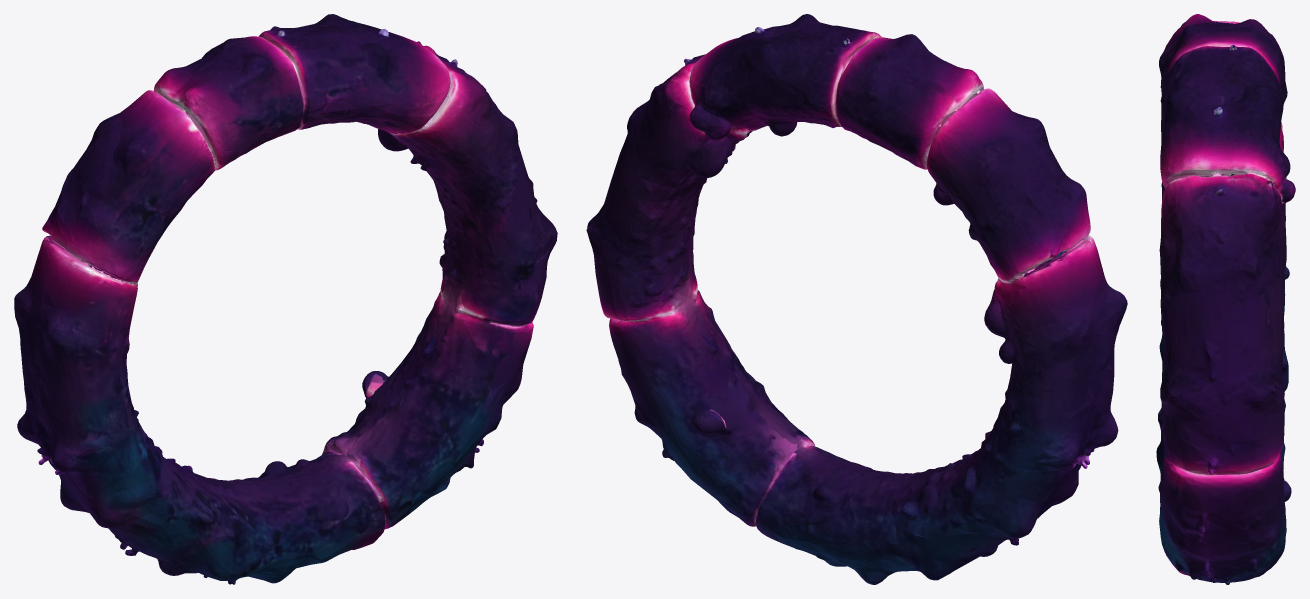
Rendered from shore-ring-generated-2026-04-19T06-22-12-051Z.medium.glb.
3 views of the same model, side by side, from view 1: azimuth 30°, elevation 25°; view 2: azimuth 150°, elevation 25°; view 3: azimuth 270°, elevation 25° (orthographic). The views are drawn at different scales.
Visible parts, largest first — view 1: temp_mesh.ply; view 2: temp_mesh.ply; view 3: temp_mesh.ply.
Boxes of the visible parts, x1,y1,x2,y2 form: temp_mesh.ply: (14, 14, 557, 584); temp_mesh.ply: (586, 14, 1127, 584); temp_mesh.ply: (1156, 14, 1295, 584).
Bounding box in the file's own units: 1.97 × 1.97 × 0.4786.
Materials: 1 (1 with a texture image).
